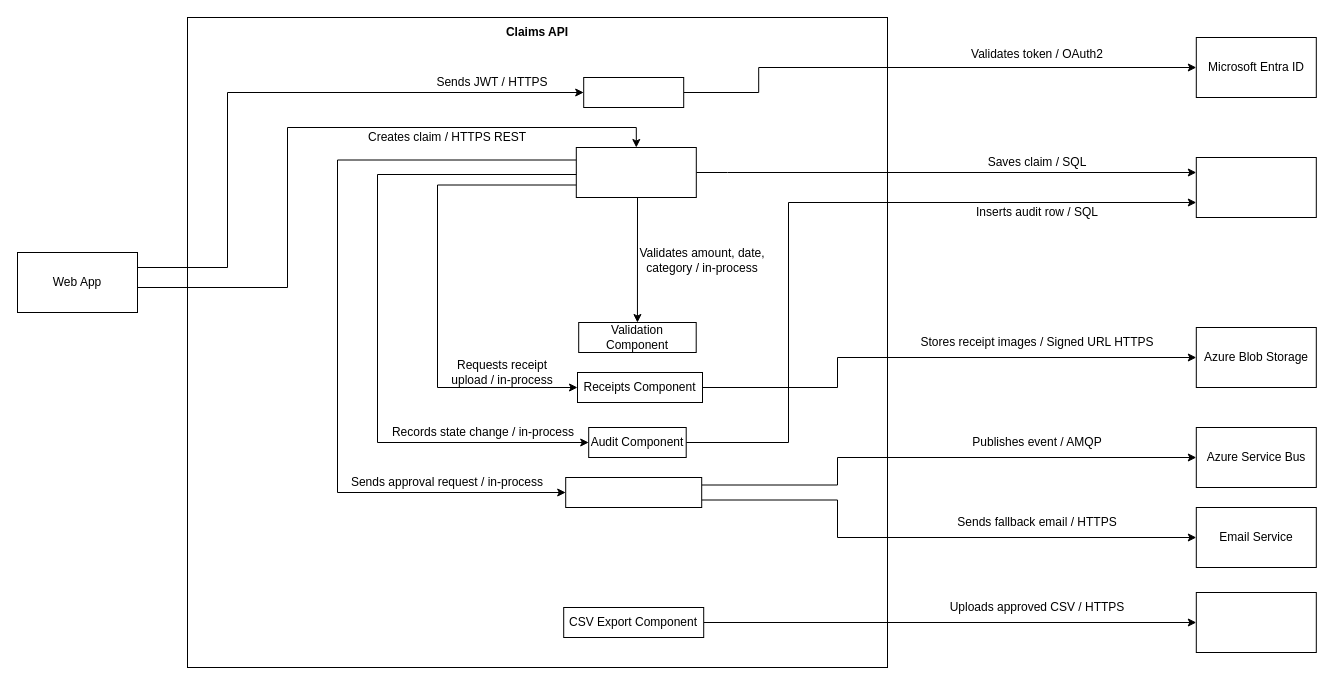
The diagram is 1334 pixels wide and 685 high, and some of its shapes have lost their labels. The shapes that lost their labels are listed below. From the top down, each one's box as (x1, y1, x2, y2) in pixels, then its label:
(583, 76, 684, 108): Auth Component
(575, 146, 696, 198): Claims Component
(1195, 156, 1316, 218): Azure SQL
(565, 476, 702, 508): Notification Component
(1195, 592, 1316, 652): SharePoint Folder
